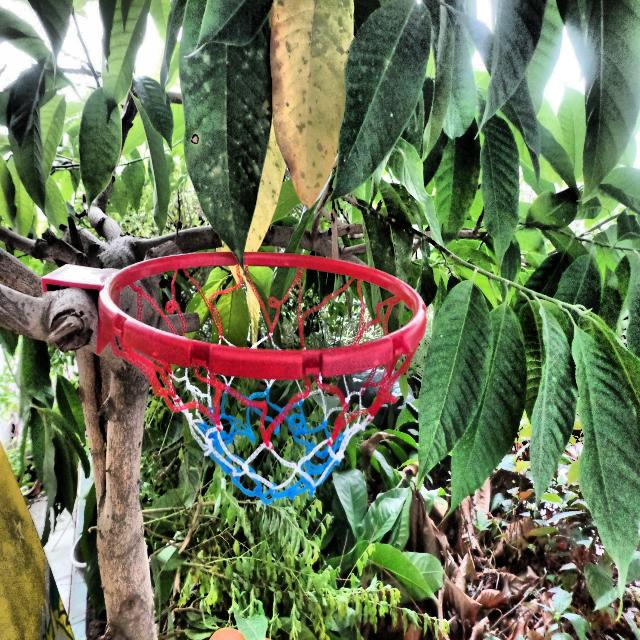rim: (106, 252, 430, 496)
